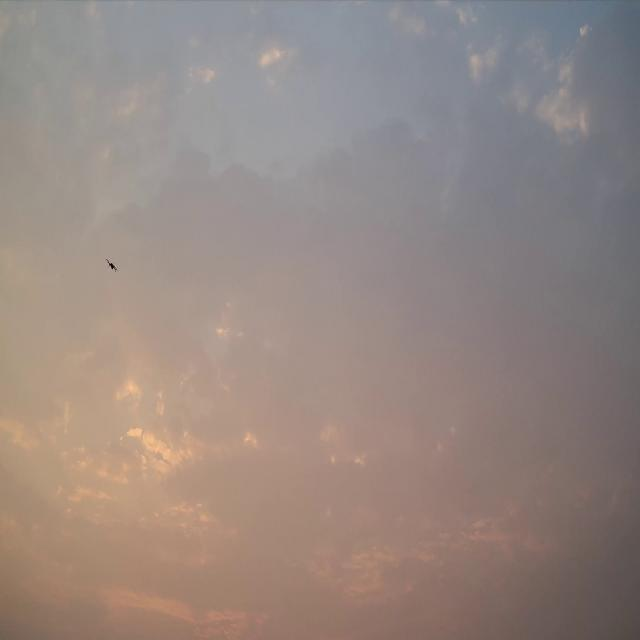UAV: (105, 258, 118, 272)
